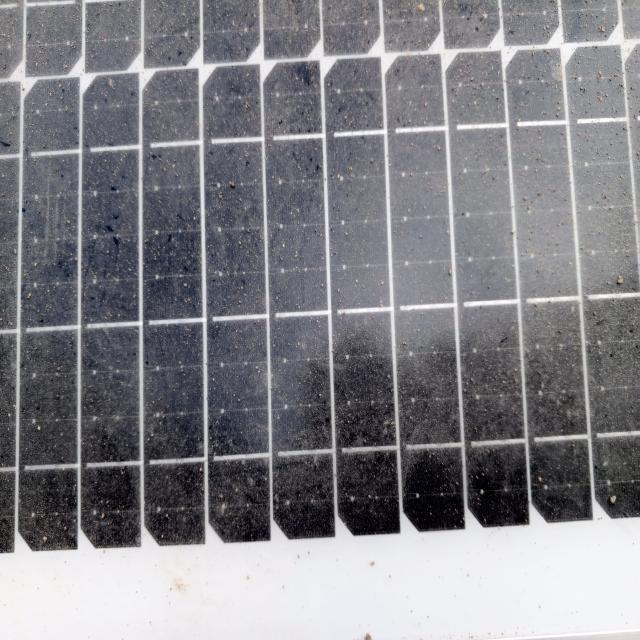Surface Contaminant: (37, 24, 639, 569)
